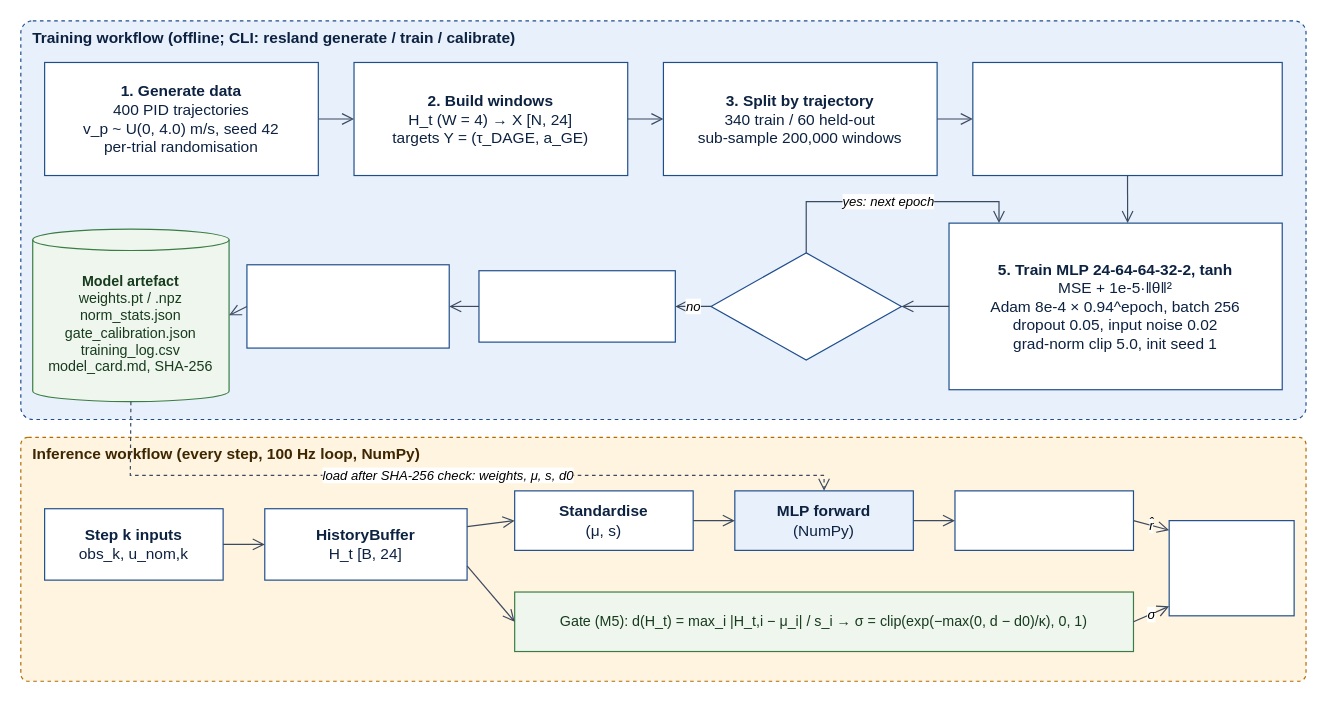
The diagram is 1327 pixels wide and 702 high, and some of its shapes have lost their labels. Here are the shapes that lost their labels. From the top down, the box of each, then its label:
(972, 61, 1282, 176): 4. Standardise fit μ, s on training set (inputs and targets)
(246, 264, 449, 348): 7. Calibrate gate d0 = 99th percentile of d on held-out
(478, 270, 675, 342): 6. Restore best epoch
(710, 252, 901, 360): val. MSE improved in last 6 epochs?
(954, 490, 1133, 550): De-standardise → tau_hat, a_hat
(1168, 519, 1294, 616): Apply u = u_nom − σ·r̂
